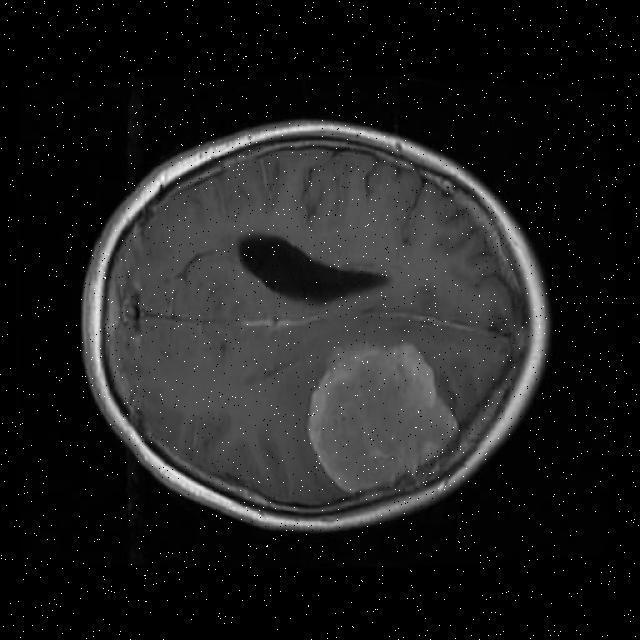Meningioma: (309, 344, 458, 492)
